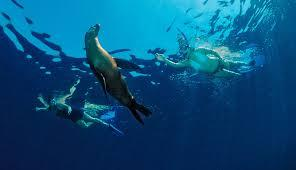swimmer: (80, 21, 157, 126), (153, 45, 256, 80), (35, 98, 124, 137)
